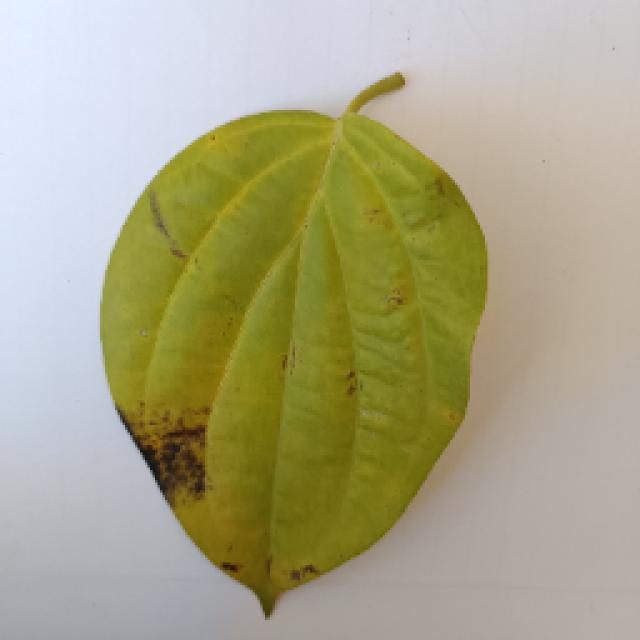slow-decline: (83, 78, 505, 612)
